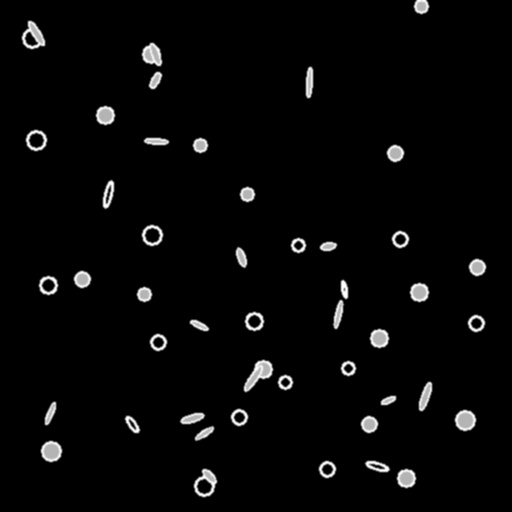pseudomonas: (242, 364, 264, 392), (26, 20, 46, 46), (417, 381, 433, 411), (102, 180, 114, 208), (194, 425, 214, 441), (148, 43, 162, 65), (124, 415, 140, 433), (333, 300, 343, 328), (366, 460, 388, 472), (44, 402, 56, 424), (181, 412, 203, 424), (201, 468, 217, 484), (148, 71, 162, 89), (235, 247, 247, 267), (305, 67, 313, 97), (190, 319, 208, 331), (320, 241, 336, 251), (380, 395, 396, 405), (340, 280, 348, 298), (145, 138, 167, 144)
synechocystis: (143, 226, 161, 244), (456, 411, 474, 429), (195, 477, 213, 495), (27, 131, 45, 149), (42, 442, 60, 460), (23, 29, 41, 47), (371, 330, 387, 346), (97, 107, 113, 123), (40, 277, 56, 293), (255, 361, 271, 377), (246, 313, 262, 329), (411, 284, 427, 300), (143, 46, 159, 62), (398, 470, 414, 486), (232, 410, 246, 424), (470, 260, 484, 274), (75, 272, 89, 286), (469, 316, 483, 330), (393, 232, 407, 246), (388, 146, 402, 160), (362, 417, 376, 431), (320, 462, 334, 476), (151, 335, 165, 349), (292, 239, 304, 251), (241, 188, 253, 200), (138, 288, 150, 300), (415, 0, 427, 12), (279, 376, 291, 388), (194, 139, 206, 151), (342, 362, 354, 374)
